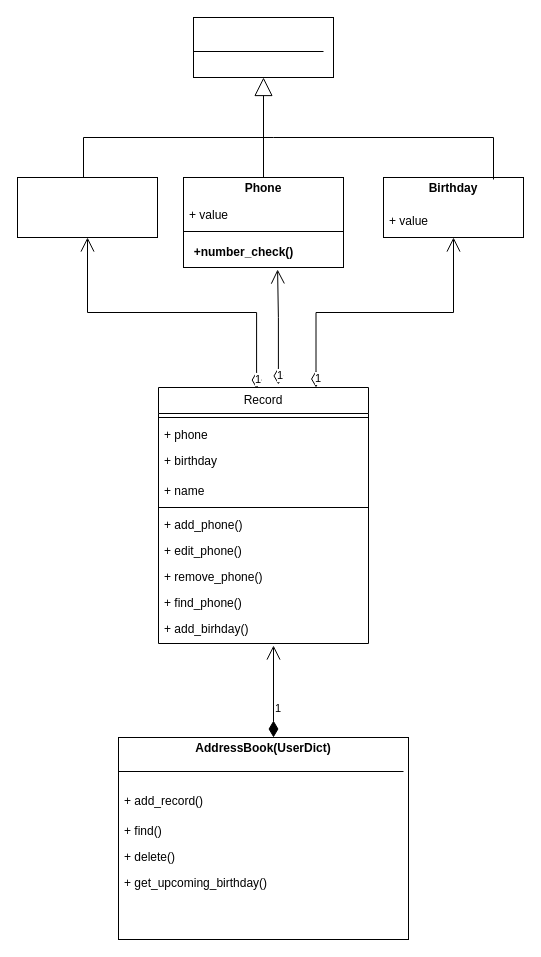
The diagram is 541 pixels wide and 957 high, and some of its shapes have lost their labels. The shapes that lost their labels are listed below. From the top down, each one's centre as x and y in pixels, then its label:
[263,47]: Field
[87,207]: Name
